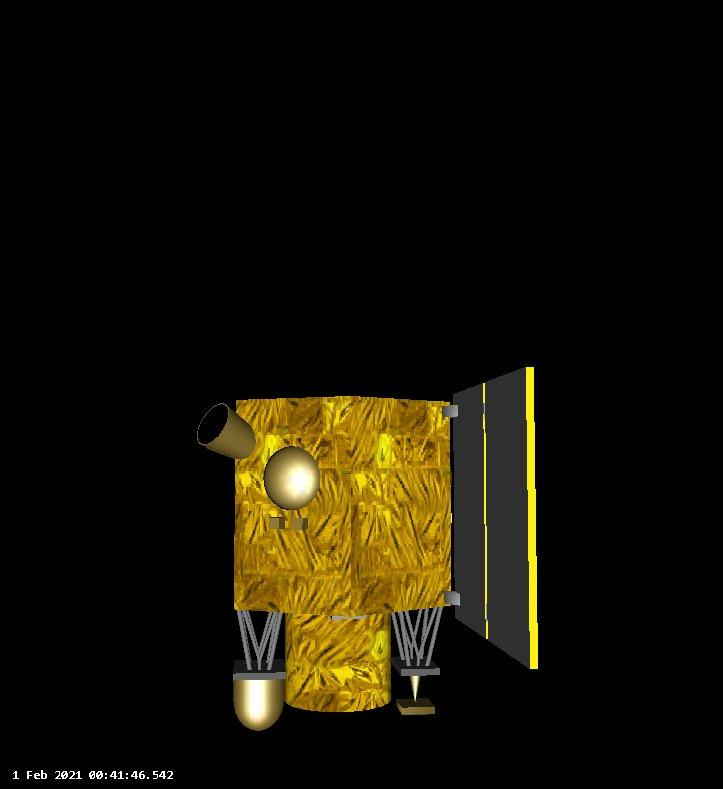antenna: (230, 603, 287, 732), (390, 604, 445, 716)
body: (234, 396, 455, 609)
solar: (453, 363, 539, 673)
thruster: (282, 610, 393, 713), (195, 401, 258, 464)
